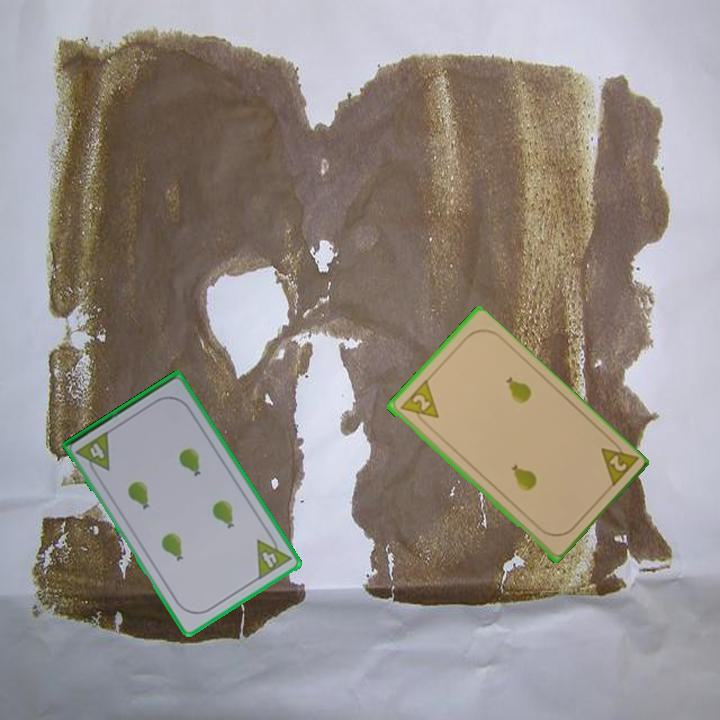2p: (596, 434, 640, 491), (396, 377, 441, 429)
4p: (253, 529, 294, 583), (72, 427, 113, 479)
